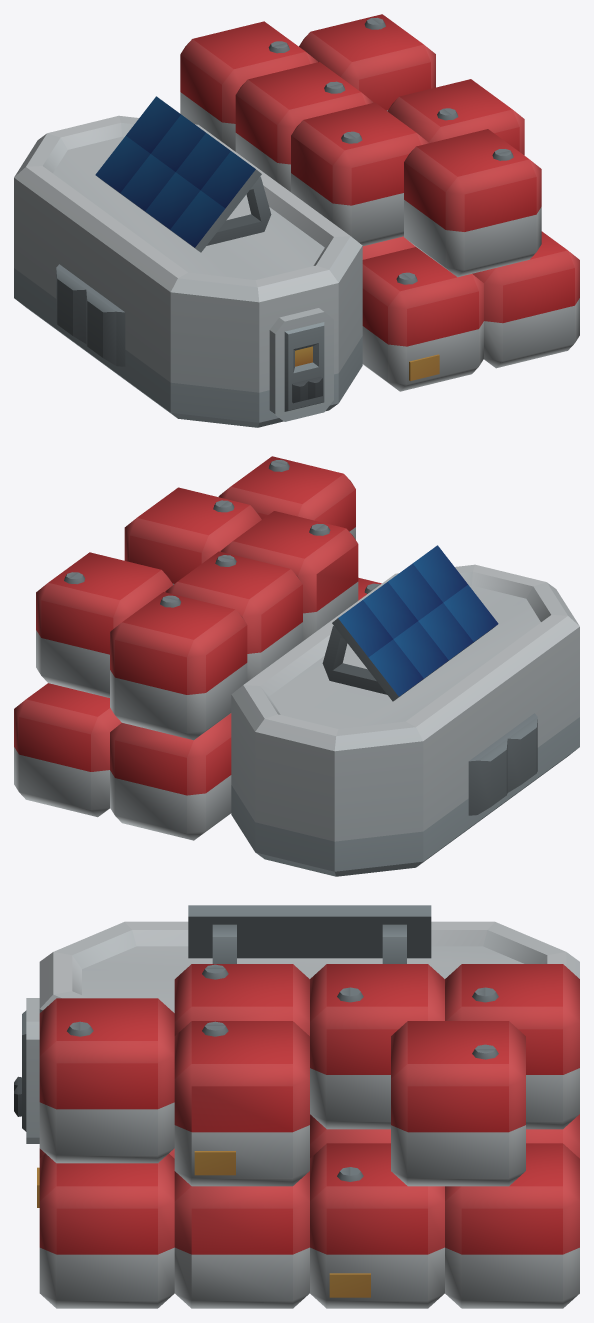
File: space-cargodepot-c.glb
3 renders of one model, top to bottom at view 1: azimuth 30°, elevation 25°; view 2: azimuth 150°, elevation 25°; view 3: azimuth 270°, elevation 25°, orthographic. The views are drawn at different scales.
Visible parts, largest first — view 1: cargodepot_C; view 2: cargodepot_C; view 3: cargodepot_C.
Part boxes in pixels (x1,y1,x2,y2): cargodepot_C: [14, 14, 579, 427]; cargodepot_C: [14, 456, 579, 876]; cargodepot_C: [14, 905, 579, 1308].
Size of the model in its own units: 2.07 by 1.02 by 2.1.
